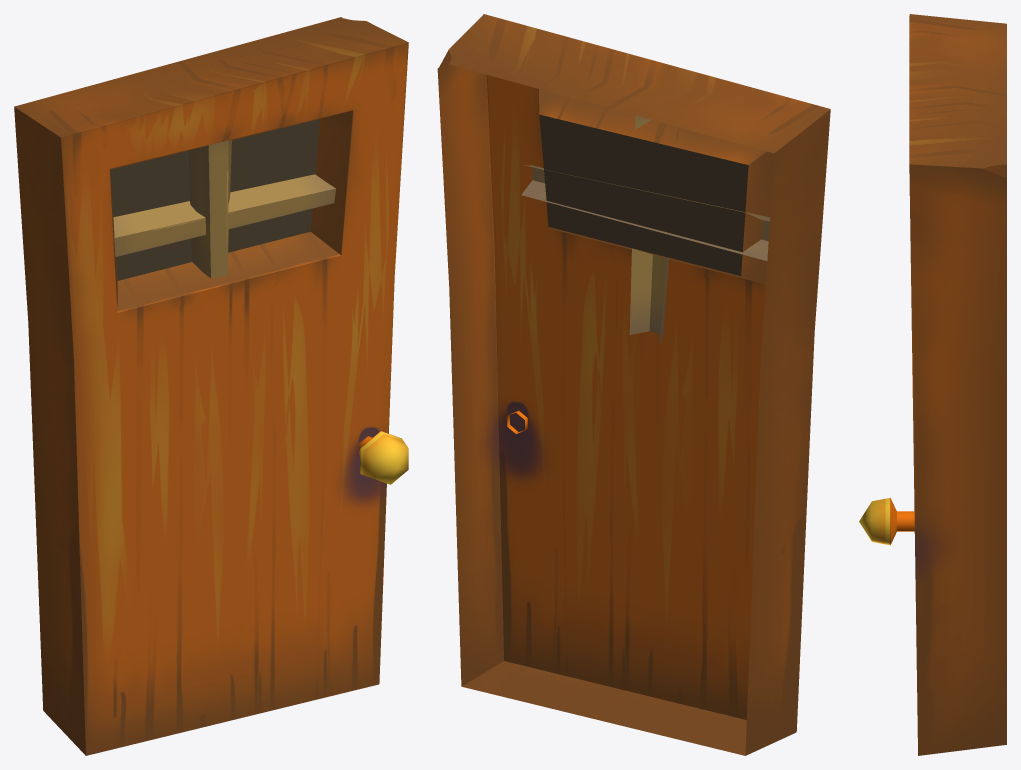
Rendered from Door.FBX.
3 views of the same model, side by side, from view 1: azimuth 30°, elevation 25°; view 2: azimuth 150°, elevation 25°; view 3: azimuth 270°, elevation 25° (orthographic). The views are drawn at different scales.
Parts seen in each view (by area): view 1: Porte; view 2: Porte; view 3: Porte.
Part boxes in pixels (x1=…): Porte: x1=14, y1=17, x2=408, y2=755; Porte: x1=437, y1=14, x2=830, y2=755; Porte: x1=859, y1=14, x2=1006, y2=755.
Size of the model in its own units: 9.35 by 16.42 by 3.65.
